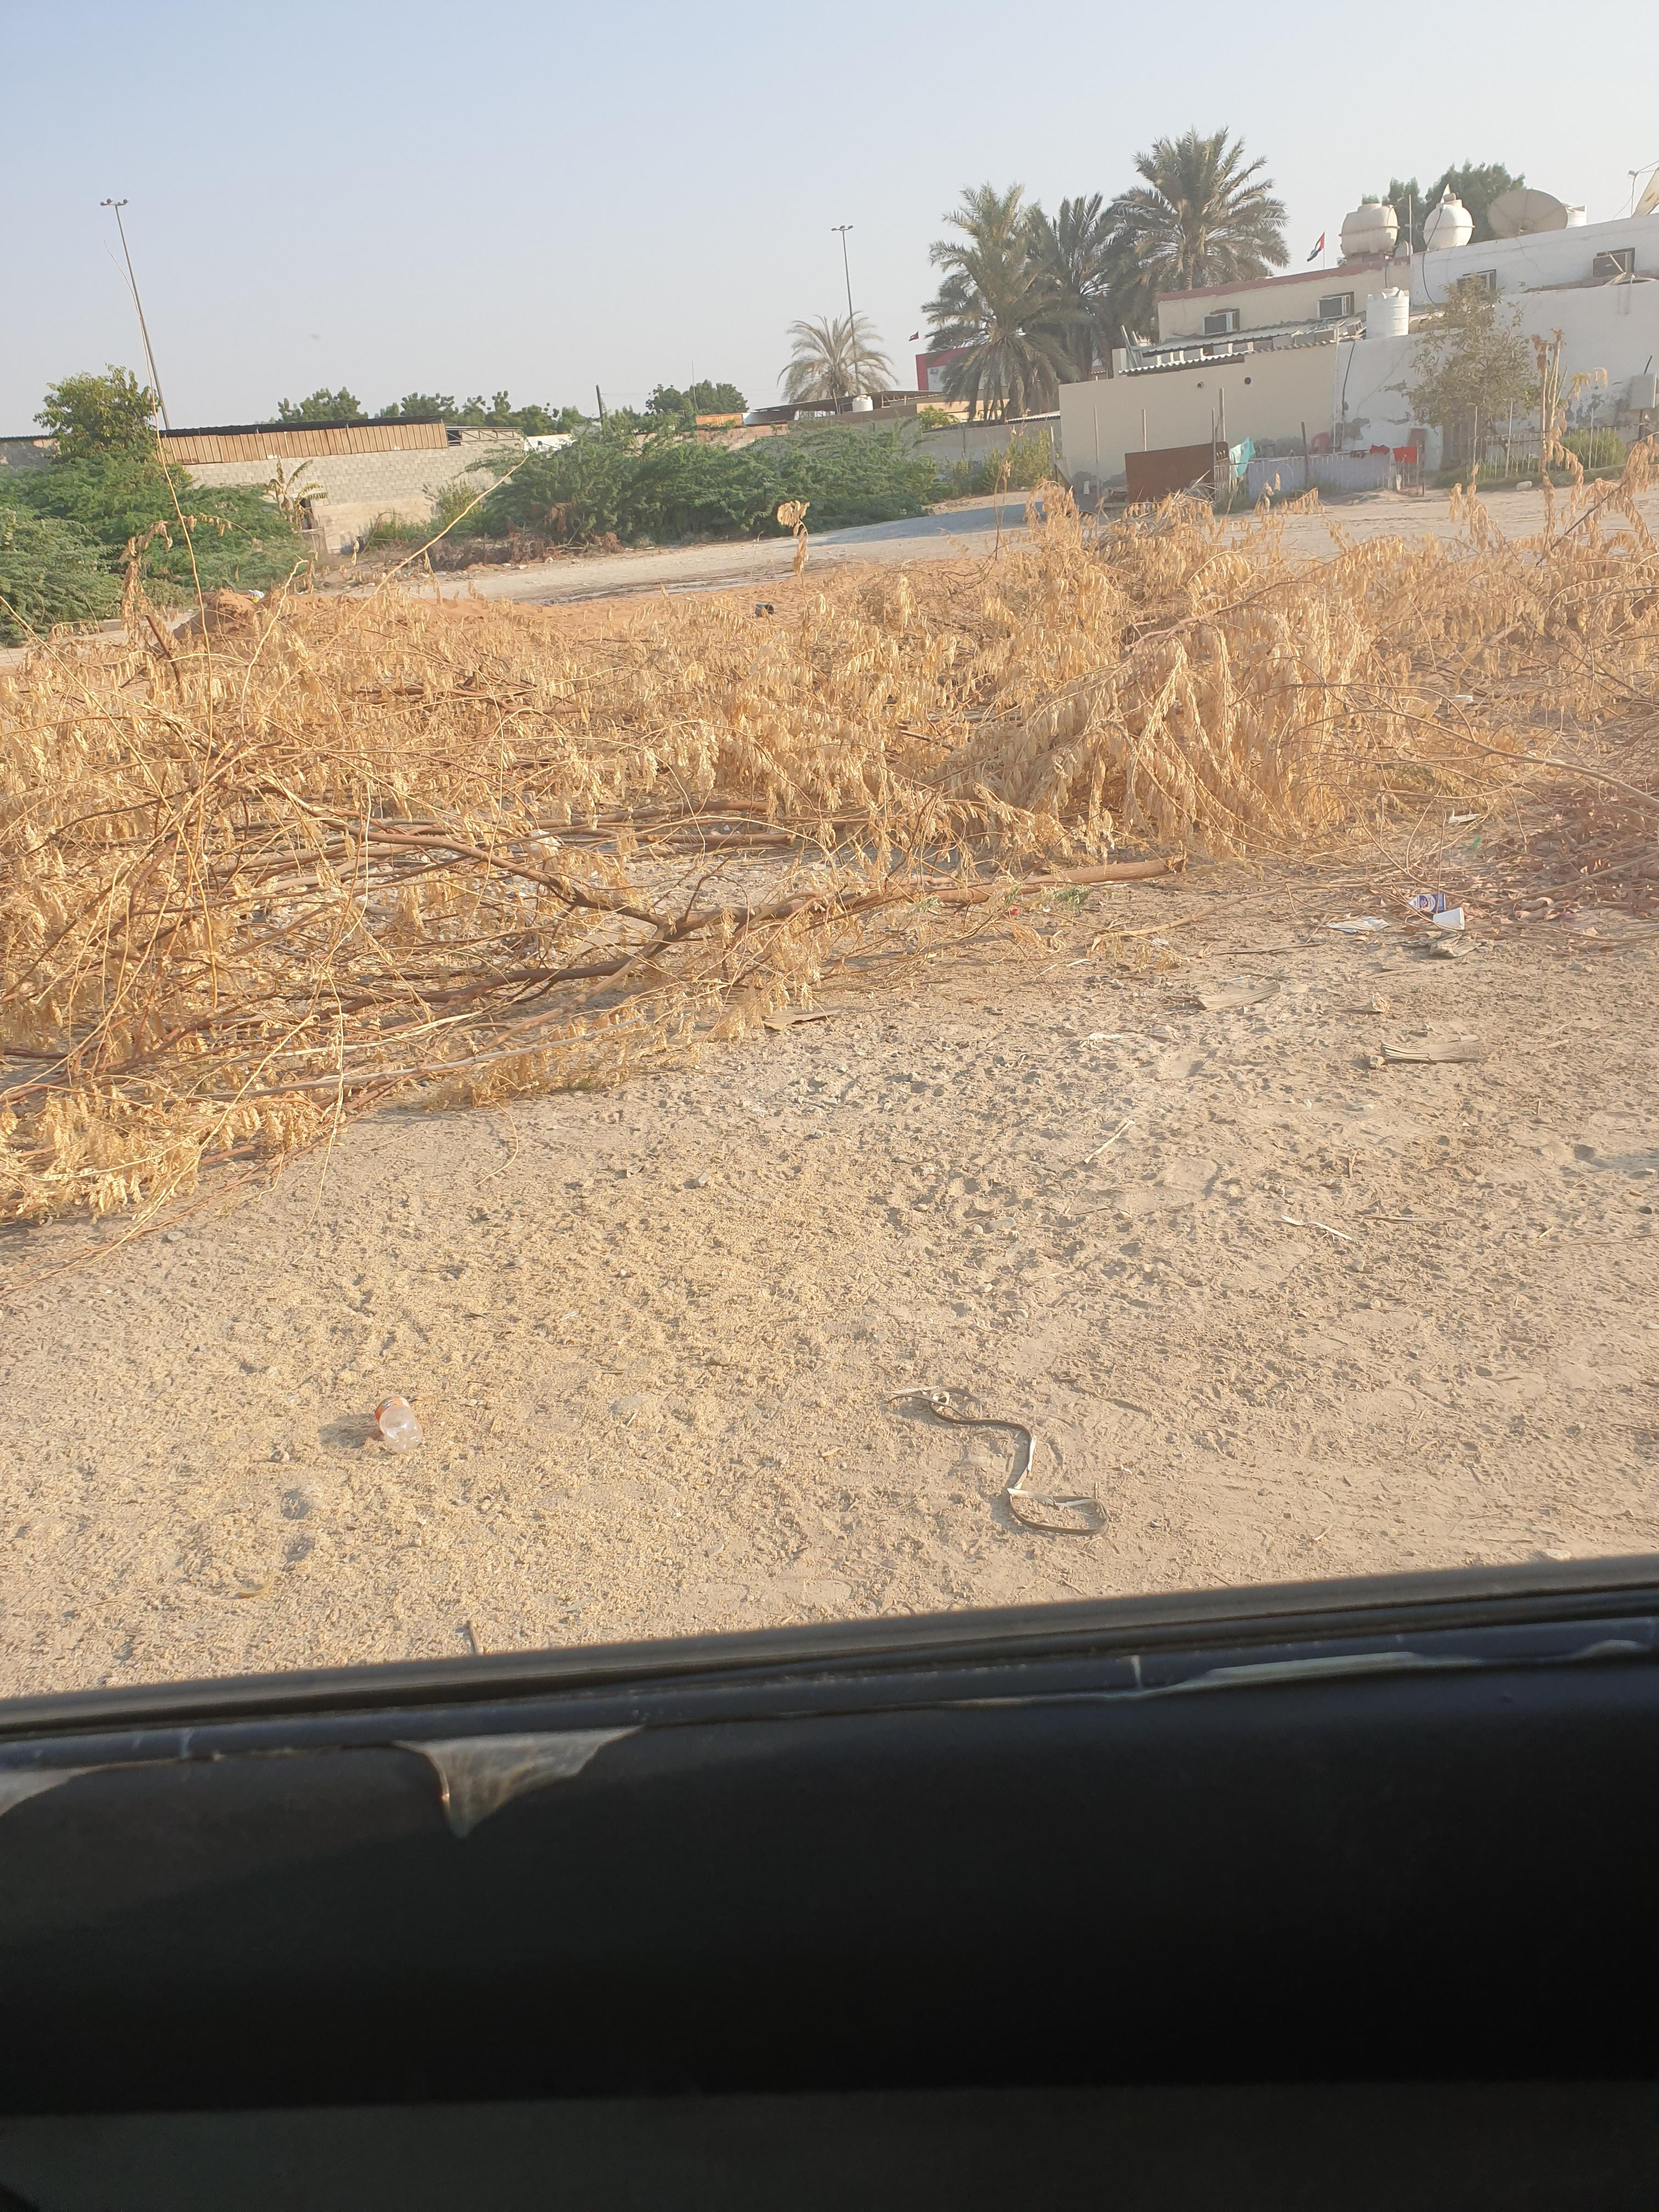fallen_trees: (471, 695, 1243, 1221), (49, 594, 638, 1197), (354, 543, 1054, 1042), (706, 526, 1431, 988), (805, 730, 1565, 1130), (171, 779, 918, 1151), (1223, 653, 1659, 1143)
